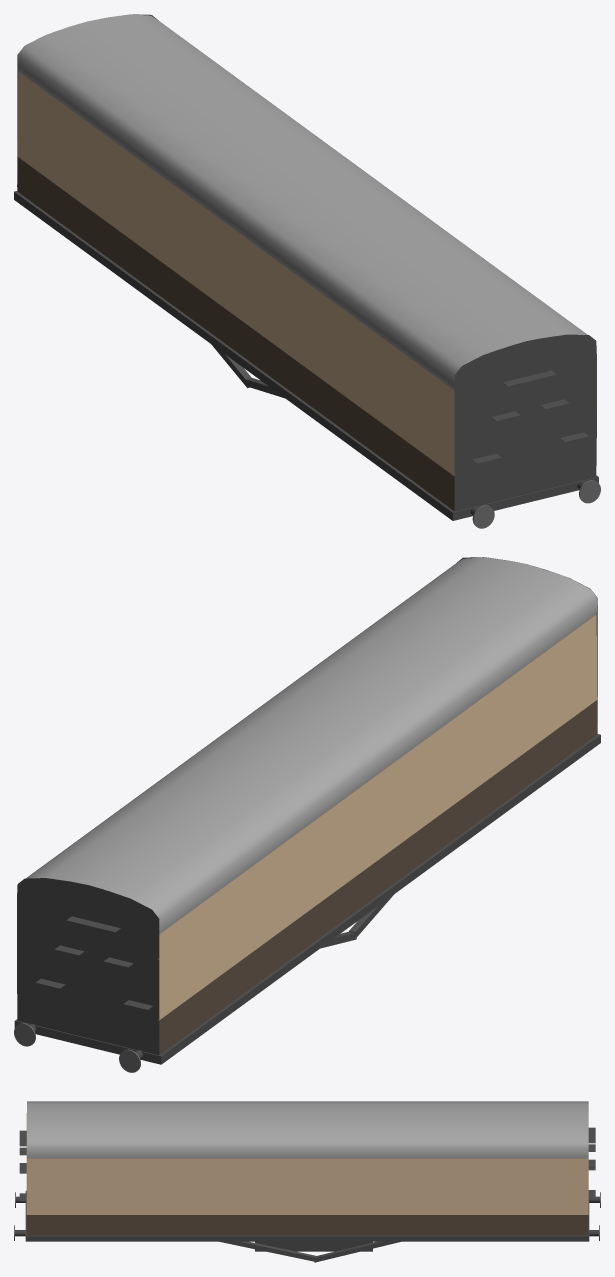
Rendered from lswr-56ft-elliptical-body.dae.
The picture shows the model from 3 angles, top to bottom: view 1: azimuth 30°, elevation 25°; view 2: azimuth 150°, elevation 25°; view 3: azimuth 270°, elevation 25°; orthographic projection. The views are drawn at different scales.
Visible parts, largest first — view 1: Plane_001, Plane_003, Plane_005, Plane_002; view 2: Plane_001, Plane_003, Plane_020, Plane_002; view 3: Plane_003, Plane_001, Plane_002, Cube_002 (×2), Cube_004.
Part boxes in pixels (x1,y1,x2,y2): Plane_001: [17, 14, 587, 390]; Plane_003: [17, 72, 596, 511]; Plane_005: [454, 334, 596, 511]; Plane_002: [14, 191, 598, 520]; Plane_001: [17, 557, 597, 934]; Plane_003: [158, 614, 597, 1054]; Plane_020: [17, 878, 159, 1055]; Plane_002: [14, 734, 600, 1064]; Plane_003: [26, 1113, 588, 1235]; Plane_001: [27, 1101, 588, 1158]; Plane_002: [25, 1190, 589, 1241]; Cube_002 (×2): [219, 1241, 372, 1261]; Cube_004: [314, 1241, 400, 1262].
Bounding box in the file's own units: 1.86 × 10.07 × 2.4.
